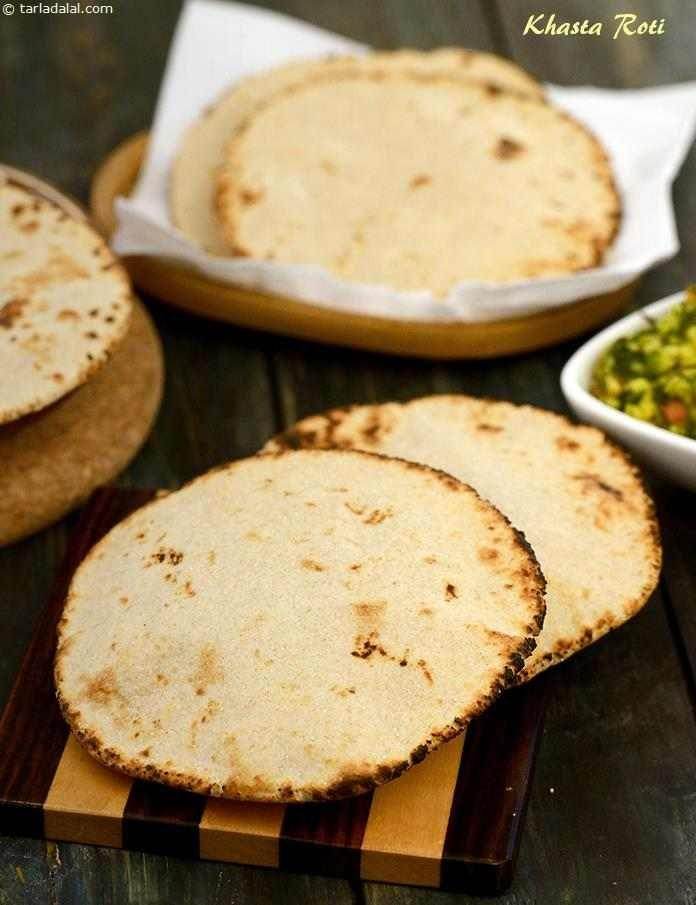roti phulka: (56, 395, 657, 804)
